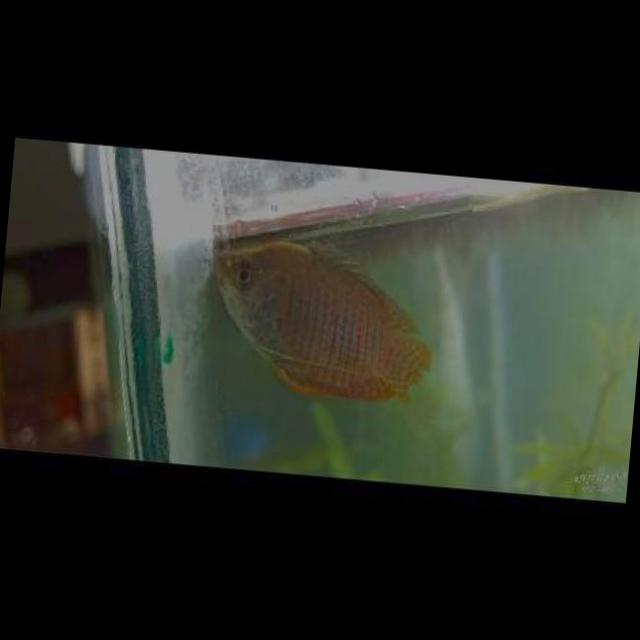Gourami: (196, 230, 438, 406)
